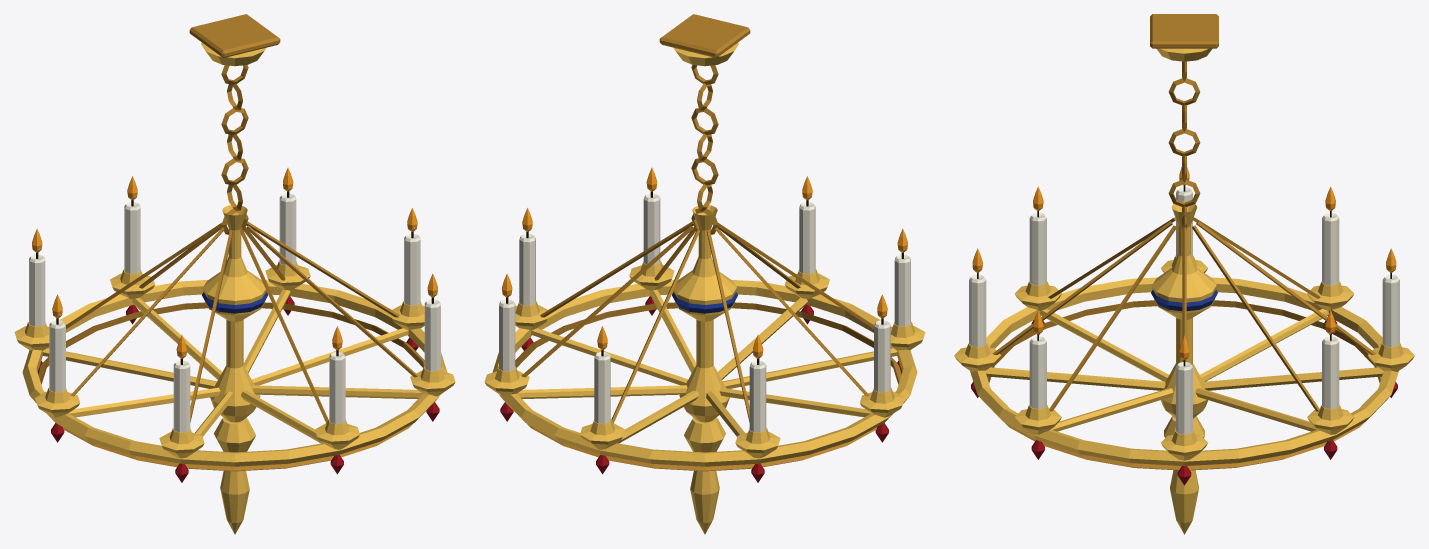
File: chandelier.obj
The picture shows the model from 3 angles, left to right: view 1: azimuth 30°, elevation 25°; view 2: azimuth 150°, elevation 25°; view 3: azimuth 270°, elevation 25°; orthographic projection.
Parts seen in each view (by area): view 1: torus.007, lathe.001, torus.008, lathe.002, box, lathe.053, lathe.025, lathe.004, lathe.043, lathe.008, lathe.022, lathe.050 (+24 smaller); view 2: torus.007, lathe.001, torus.008, lathe.002, box, lathe.011, lathe.039, lathe.004, lathe.029, lathe.008, lathe.022, lathe.050 (+24 smaller); view 3: torus.007, lathe.001, torus.008, box, lathe.018, lathe.046, lathe.002, lathe.015, lathe.057, lathe.022, lathe.050, lathe.029 (+22 smaller).
Boxes of the visible parts, x1,y1,x2,y2 form: torus.007: (22,280,447,466); lathe.001: (203,205,266,422); torus.008: (38,302,424,471); lathe.002: (214,417,255,534); box: (189,14,280,57); lathe.053: (252,385,422,399); lathe.025: (42,348,216,388); lathe.004: (251,328,408,385); lathe.043: (173,360,190,432); lathe.008: (404,233,420,305); lathe.022: (124,202,140,273); lathe.050: (329,352,345,423); torus.007: (492,280,917,466); lathe.001: (673,205,736,422); torus.008: (515,302,901,471); lathe.002: (684,417,725,534); box: (659,14,750,57); lathe.011: (517,385,687,399); lathe.039: (723,348,897,388); lathe.004: (531,328,688,385); lathe.029: (749,360,766,432); lathe.008: (519,233,535,305); lathe.022: (594,352,610,423); lathe.050: (799,202,815,273); torus.007: (970,277,1398,465); lathe.001: (1152,201,1216,418); torus.008: (987,300,1381,470); box: (1150,14,1218,48); lathe.018: (1203,367,1383,390); lathe.046: (985,367,1165,390); lathe.002: (1164,416,1204,534); lathe.015: (1322,336,1339,408); lathe.057: (1029,336,1046,408); lathe.022: (1382,274,1399,347); lathe.050: (969,274,986,347); lathe.029: (1322,213,1339,285).
Size of the model in its own units: 1.07 by 1.3 by 1.07.
